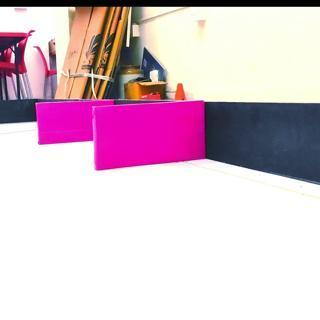xparking: (92, 103, 207, 167), (36, 100, 91, 142)
